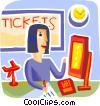aeroplane: (2, 59, 21, 79)
person: (24, 22, 66, 93)
tvmonitor: (68, 32, 93, 83)
